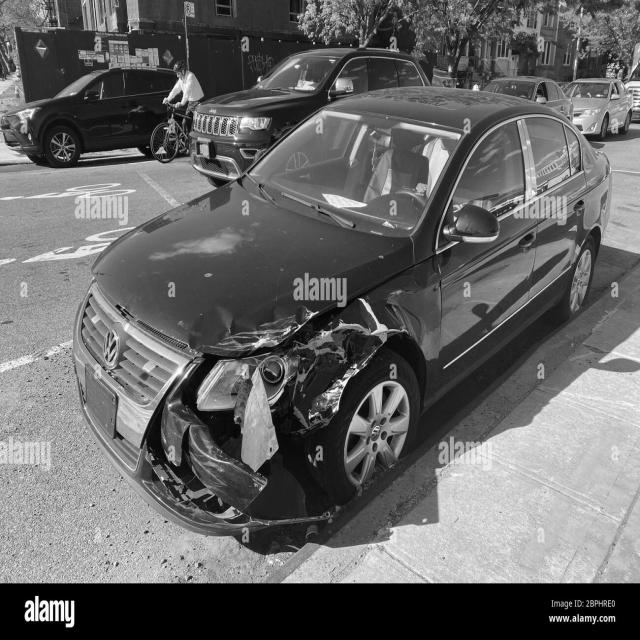crush: (131, 286, 421, 538)
